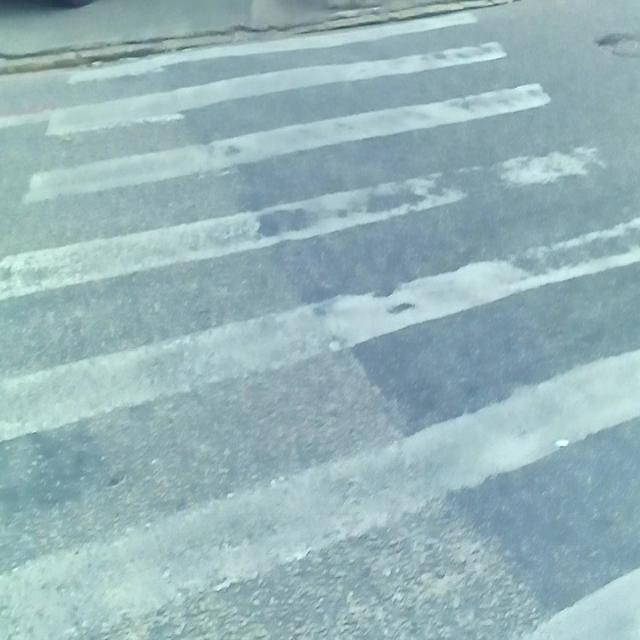crosswalk: (0, 6, 640, 640)
